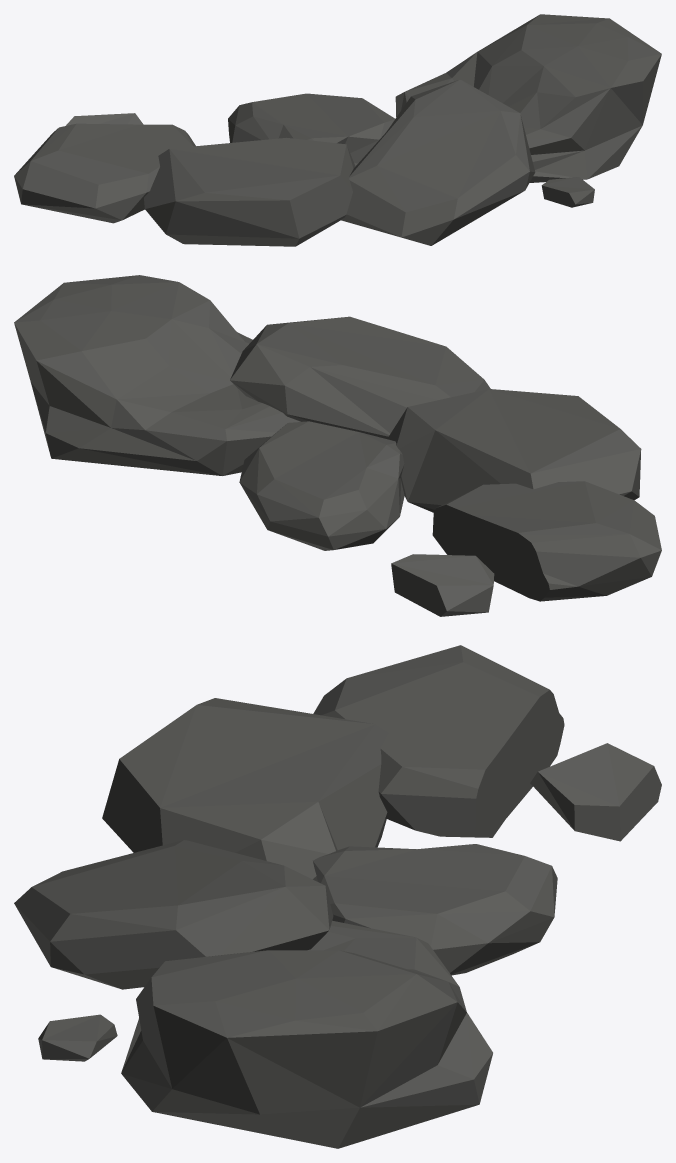
File: SM_Envr_Nature_Rock_Group_06.fbx
3 views of the same model, one above another, from view 1: azimuth 30°, elevation 25°; view 2: azimuth 150°, elevation 25°; view 3: azimuth 270°, elevation 25° (orthographic). The views are drawn at different scales.
Visible parts, largest first — view 1: SM_Envr_Nature_Rock_Group_06; view 2: SM_Envr_Nature_Rock_Group_06; view 3: SM_Envr_Nature_Rock_Group_06.
Boxes of the visible parts, x1=… form: SM_Envr_Nature_Rock_Group_06: x1=14, y1=14, x2=661, y2=246; SM_Envr_Nature_Rock_Group_06: x1=14, y1=275, x2=661, y2=616; SM_Envr_Nature_Rock_Group_06: x1=14, y1=645, x2=661, y2=1148.
Size of the model in its own units: 669 by 102 by 411.
